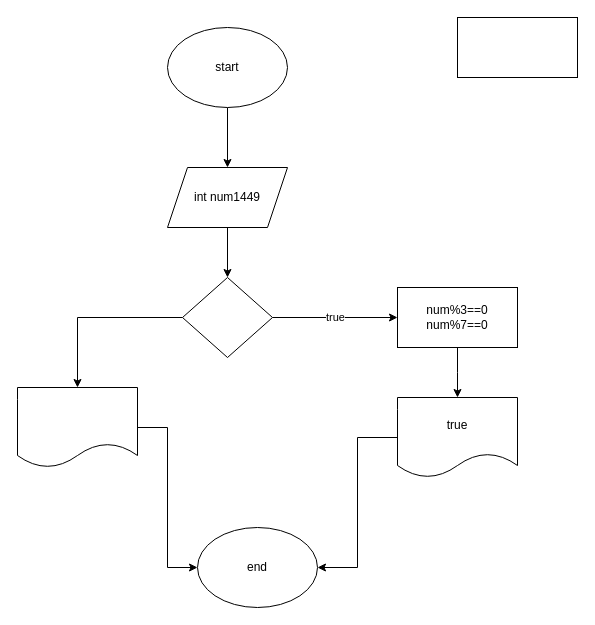
This 595x625 diagram has some shape labels left out. Each missing label, with the centre of its shape:
false: [77,427]
num>=1000: [227,317]
task2: [517,47]
